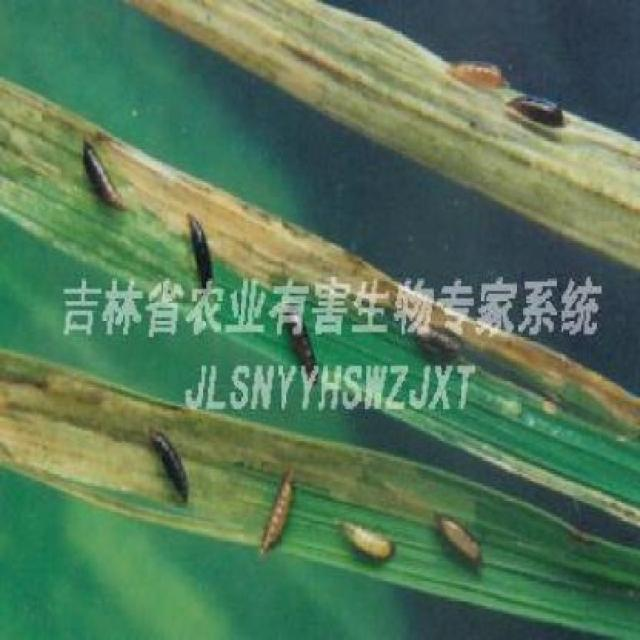whorl-maggot: (254, 454, 306, 574), (328, 502, 412, 573), (138, 418, 192, 514), (75, 132, 132, 222), (422, 506, 487, 572), (497, 74, 574, 128), (173, 204, 216, 276), (443, 49, 506, 94)
